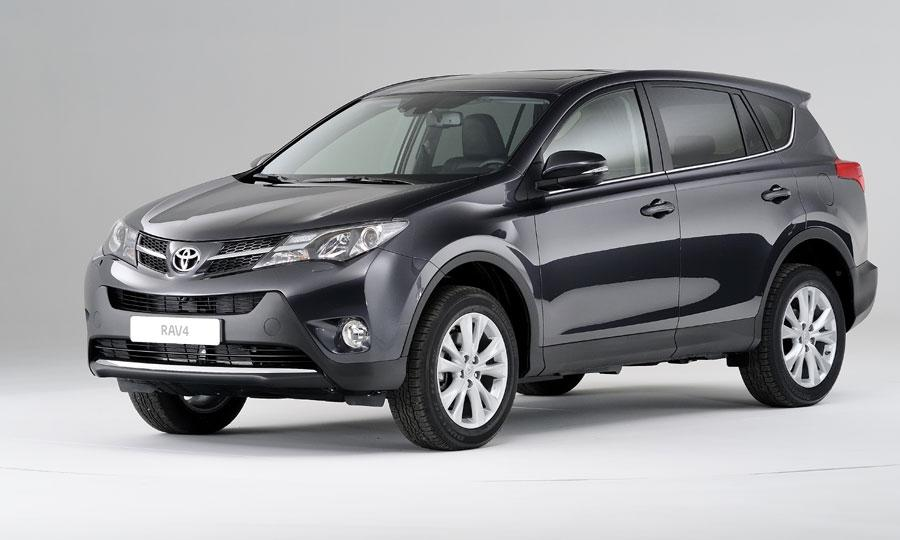pickup: (79, 65, 879, 451)
